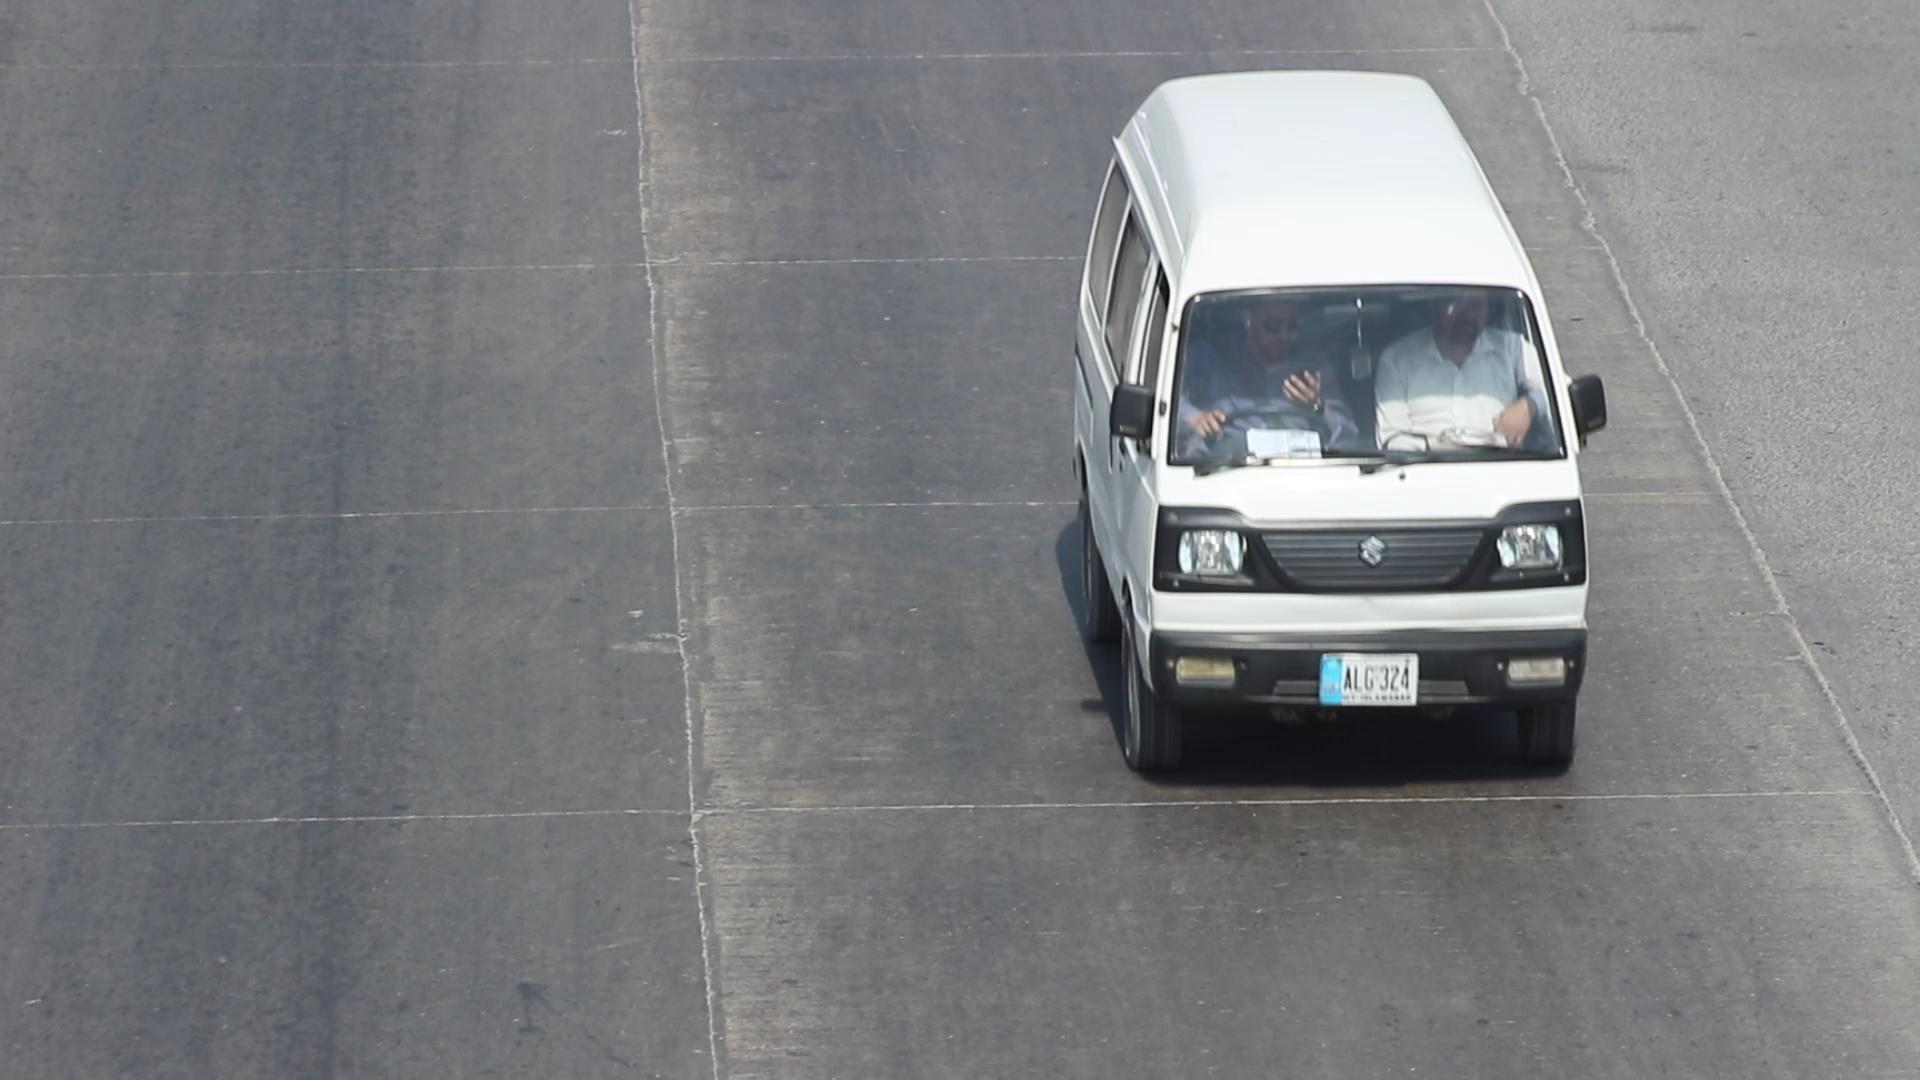windshield: (1150, 277, 1580, 504)
